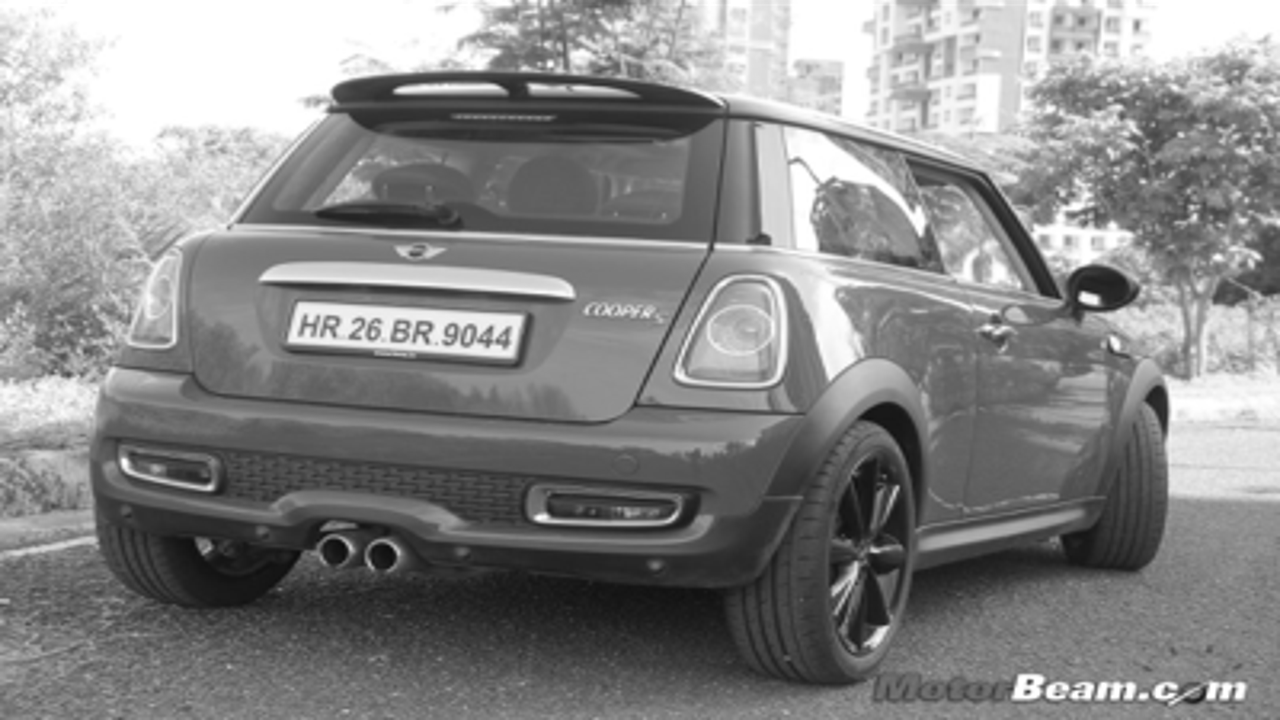license: (282, 296, 537, 375)
